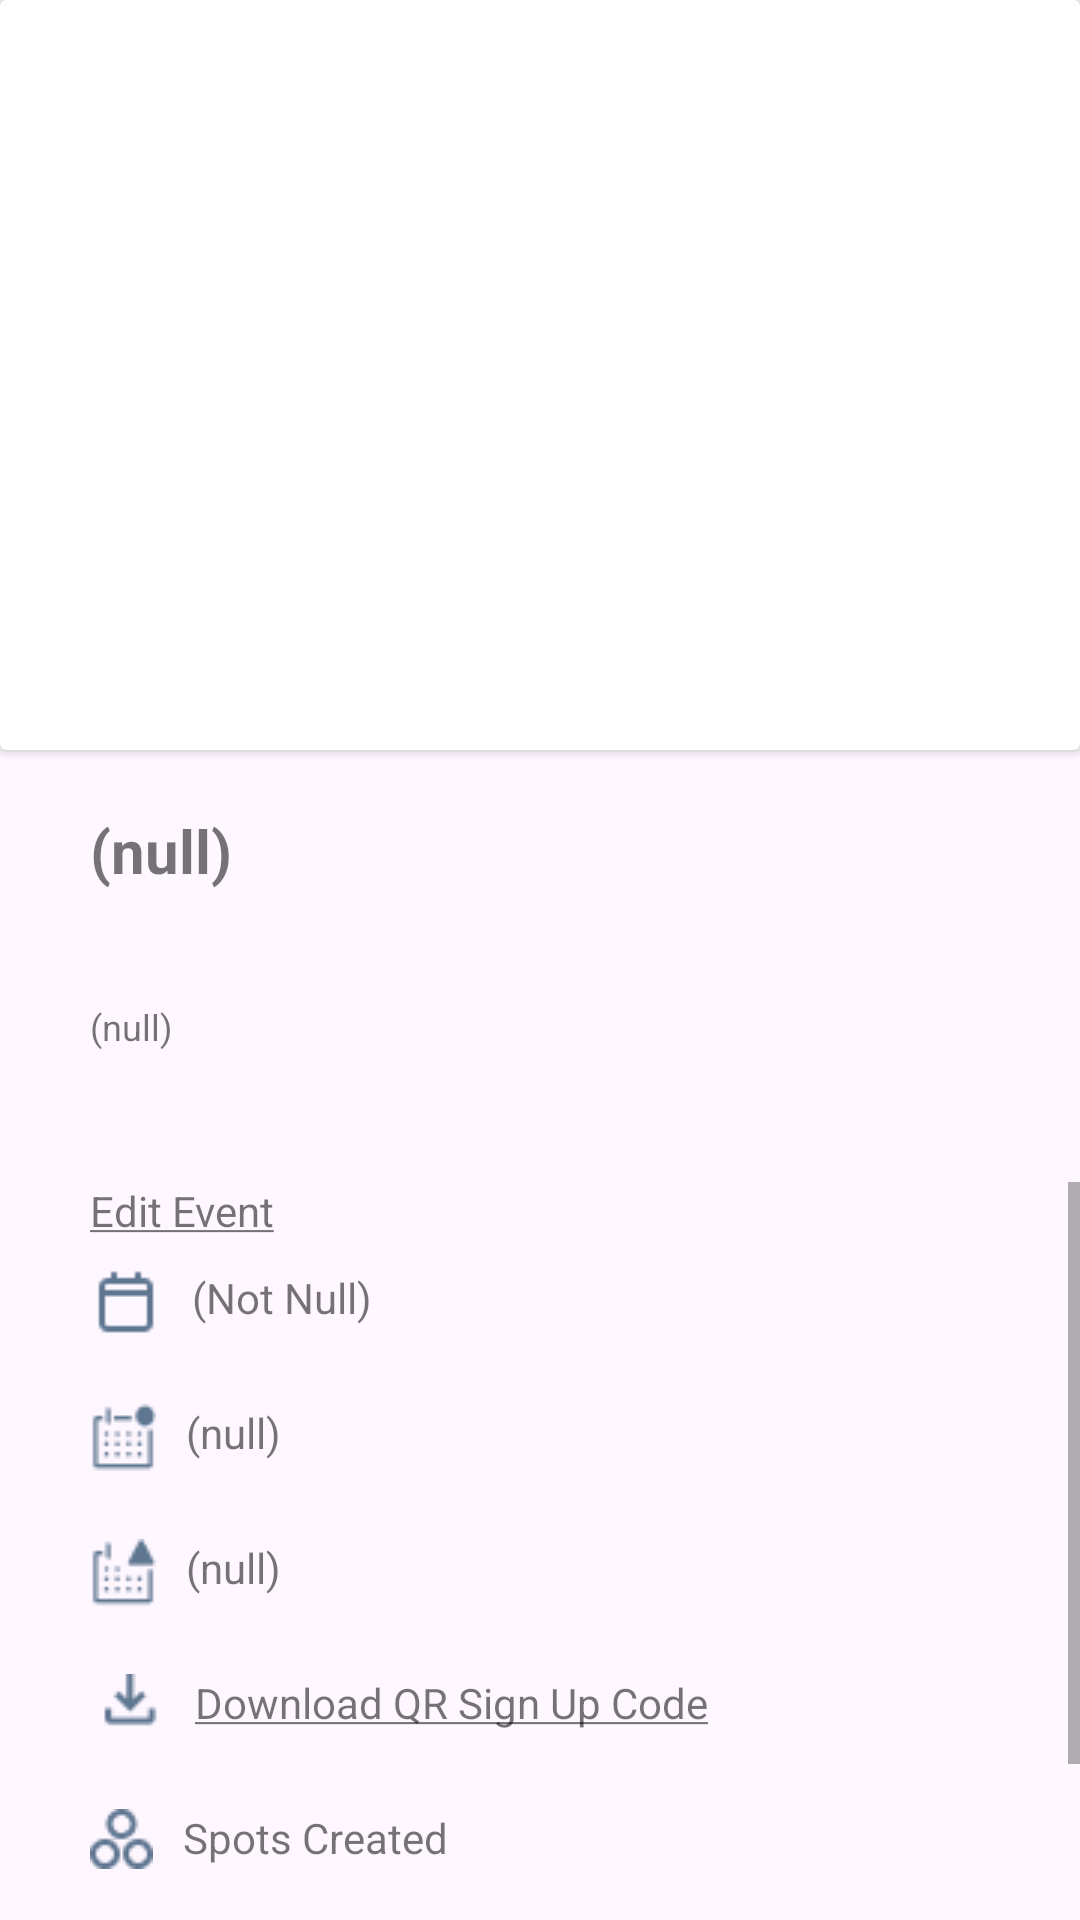

Named icons in this screenshot (1080 × 1920) and their centers, [x,y]:
calendar: [126,1302]
end date: [124,1572]
participants: [121,1839]
start date: [124,1437]
